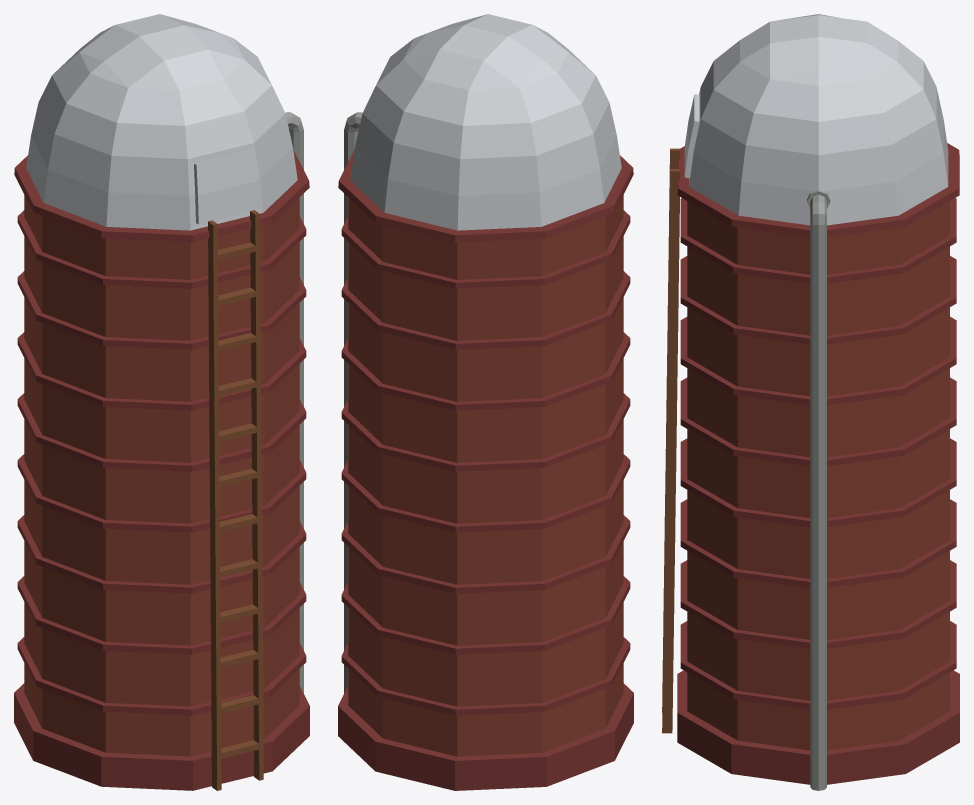
The model's file is silo.glb.
The picture shows the model from 3 angles, left to right: view 1: azimuth 30°, elevation 25°; view 2: azimuth 150°, elevation 25°; view 3: azimuth 270°, elevation 25°; orthographic projection.
Visible parts, largest first — view 1: Silo_Cylinder.007; view 2: Silo_Cylinder.007; view 3: Silo_Cylinder.007.
Boxes of the visible parts, x1,y1,x2,y2 form: Silo_Cylinder.007: (14,14,309,790); Silo_Cylinder.007: (338,14,633,790); Silo_Cylinder.007: (662,14,959,790).
Size of the model in its own units: 3.67 by 9.07 by 3.51.
1 material, 1 textured.
